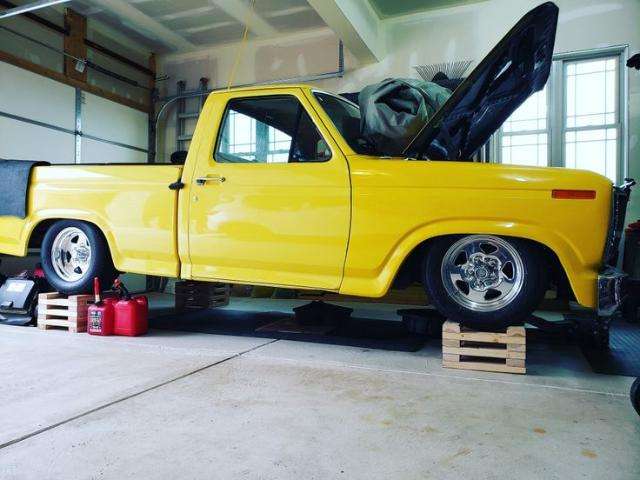pickup-truck: (0, 3, 634, 351)
